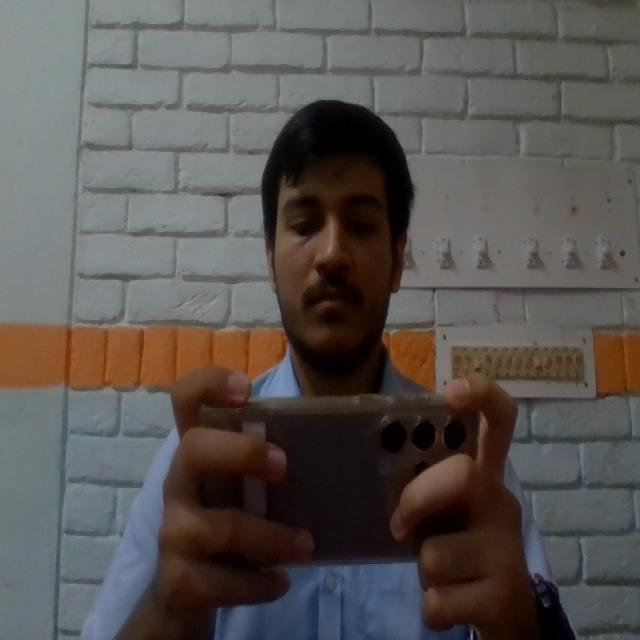phone: (195, 392, 484, 576)
using-phone: (75, 105, 579, 640)
